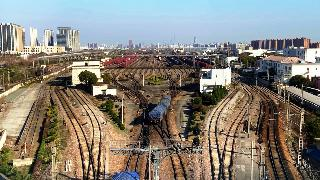train: (148, 94, 172, 124)
